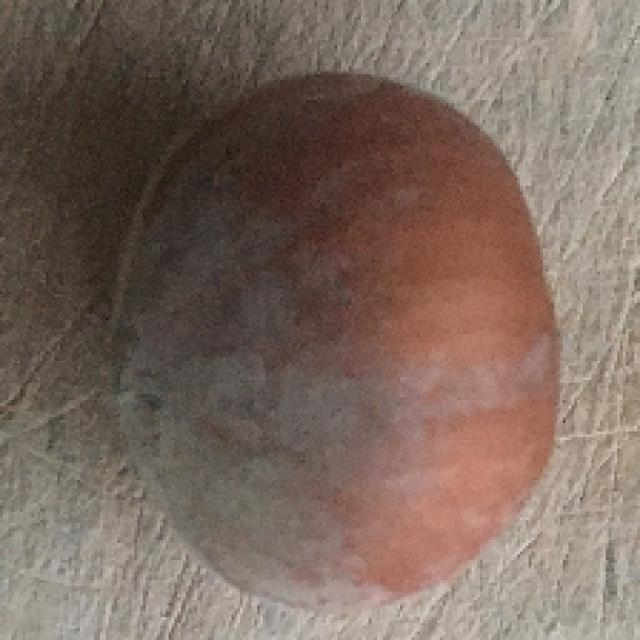qualityHazelnut: (101, 73, 562, 613)
